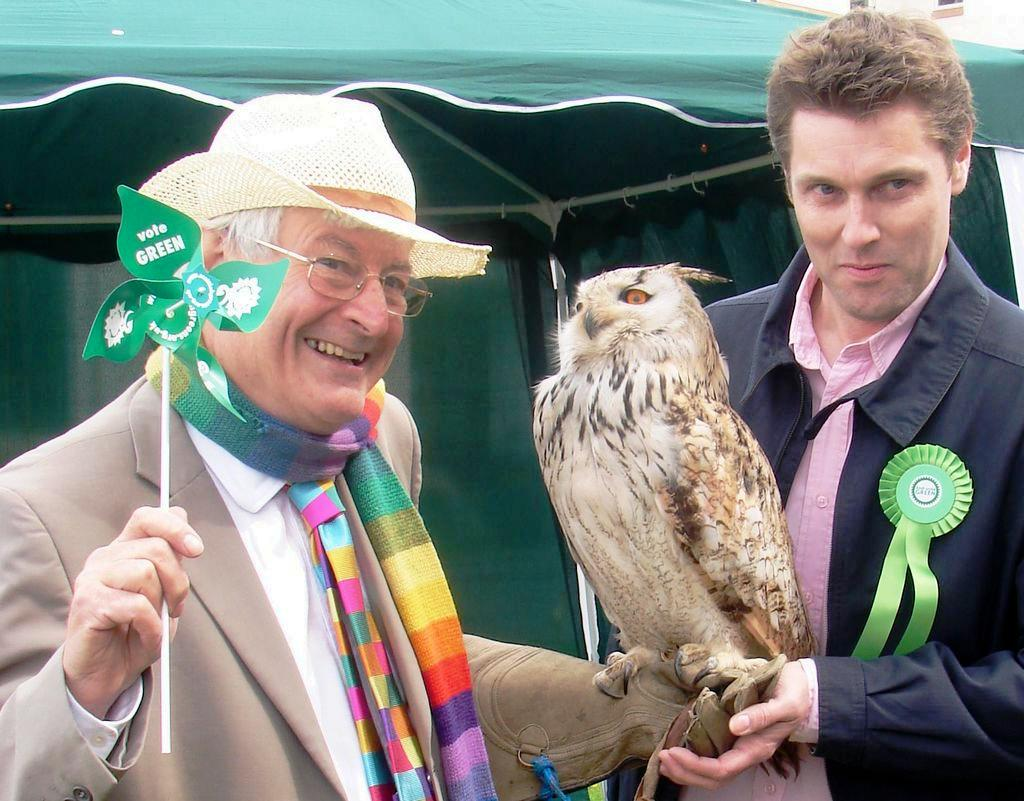Owl: (530, 258, 815, 782)
